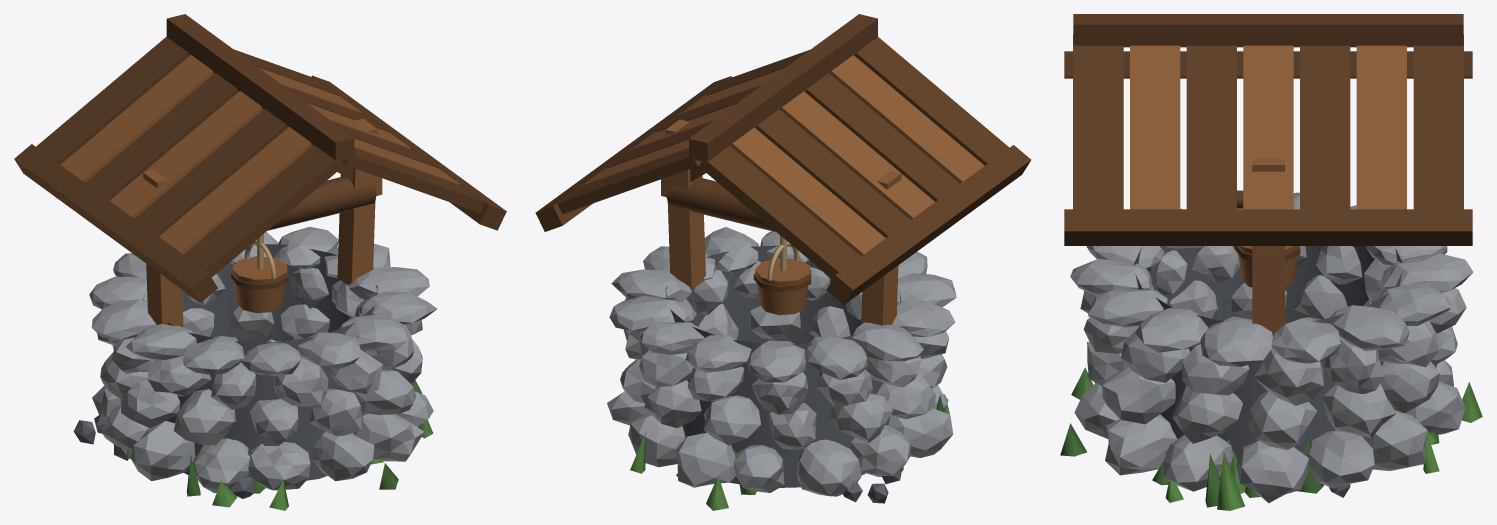
Rendered from stone-well.glb.
3 views of the same model, side by side, from view 1: azimuth 30°, elevation 25°; view 2: azimuth 150°, elevation 25°; view 3: azimuth 270°, elevation 25° (orthographic). The views are drawn at different scales.
Visible parts, largest first — view 1: shaft_lining, eave_0, ridge_beam, shingle_0_6, shingle_0_1, shingle_0_4, shingle_0_2, shingle_0_5, shingle_0_0, shingle_0_3, post_1, shingle_1_6 (+47 smaller); view 2: shaft_lining, eave_0, ridge_beam, shingle_0_0, shingle_0_1, shingle_0_2, shingle_0_4, shingle_0_5, shingle_0_6, shingle_0_3, post_1, wall_stone_0_8 (+47 smaller); view 3: eave_1, ridge_beam, shingle_1_6, shingle_1_0, shingle_1_1, shingle_1_2, shingle_1_4, shingle_1_5, shaft_lining, shingle_1_3, wall_stone_0_0, wall_stone_0_2 (+43 smaller).
Boxes of the visible parts, x1,y1,x2,y2 form: shaft_lining: (143, 244, 377, 480); eave_0: (14, 144, 217, 302); ridge_beam: (166, 14, 354, 160); shingle_0_6: (183, 145, 344, 277); shingle_0_1: (60, 55, 214, 182); shingle_0_4: (134, 109, 287, 236); shingle_0_2: (85, 72, 238, 200); shingle_0_5: (159, 127, 312, 254); shingle_0_0: (36, 37, 189, 164); shingle_0_3: (110, 91, 263, 218); post_1: (337, 119, 377, 285); shingle_1_6: (342, 148, 484, 212); shaft_lining: (665, 245, 901, 487); eave_0: (826, 145, 1031, 304); ridge_beam: (689, 14, 877, 161); shingle_0_0: (699, 145, 860, 279); shingle_0_1: (730, 127, 885, 256); shingle_0_2: (755, 109, 910, 237); shingle_0_4: (805, 73, 959, 201); shingle_0_5: (830, 55, 984, 183); shingle_0_6: (854, 37, 1009, 165); shingle_0_3: (780, 91, 934, 219); post_1: (665, 119, 705, 289); wall_stone_0_8: (796, 439, 861, 496); eave_1: (1064, 209, 1472, 245); ridge_beam: (1073, 14, 1463, 47); shingle_1_6: (1073, 41, 1123, 209); shingle_1_0: (1413, 41, 1463, 209); shingle_1_1: (1356, 45, 1406, 209); shingle_1_2: (1300, 45, 1350, 209); shingle_1_4: (1186, 45, 1236, 209); shingle_1_5: (1130, 45, 1180, 209); shaft_lining: (1133, 246, 1402, 459); shingle_1_3: (1243, 45, 1293, 209); wall_stone_0_0: (1236, 441, 1308, 503); wall_stone_0_2: (1105, 414, 1177, 475).
Bounding box in the file's own units: 0.9266 × 1.02 × 0.9312.
